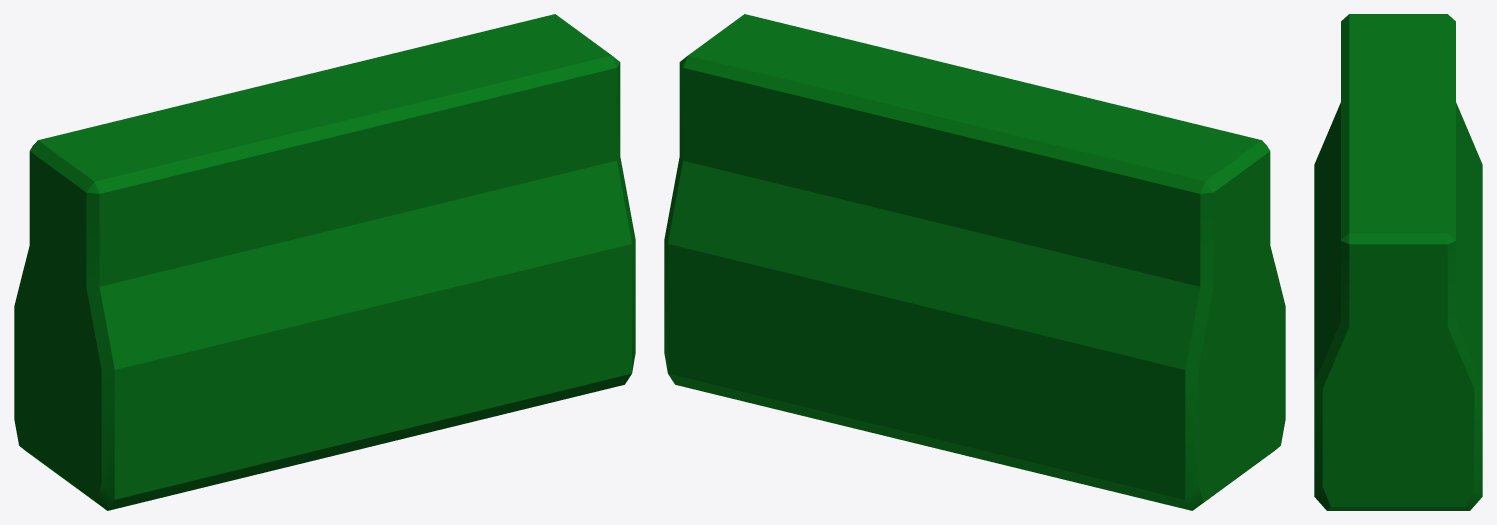
File: mesh_ConcreteBollard_v2.fbx
3 renders of one model, left to right at view 1: azimuth 30°, elevation 25°; view 2: azimuth 150°, elevation 25°; view 3: azimuth 270°, elevation 25°, orthographic. The views are drawn at different scales.
Visible parts, largest first — view 1: mesh_ConcreteBollard_v2_0; view 2: mesh_ConcreteBollard_v2_0; view 3: mesh_ConcreteBollard_v2_0.
Part boxes in pixels (x1,y1,x2,y2): mesh_ConcreteBollard_v2_0: (14, 14, 635, 510); mesh_ConcreteBollard_v2_0: (664, 14, 1285, 510); mesh_ConcreteBollard_v2_0: (1314, 14, 1482, 510).
Bounding box in the file's own units: 117 × 66.73 × 36.66.
